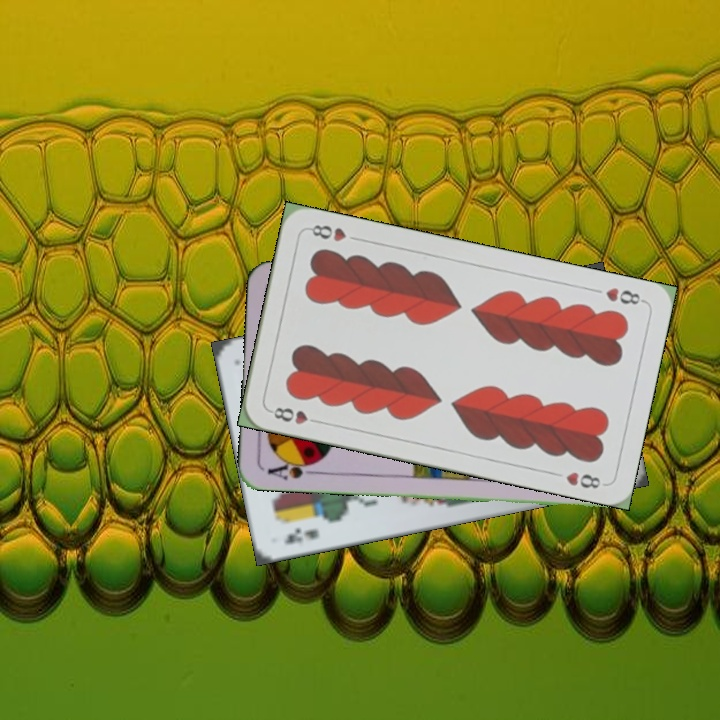EK: (280, 523, 321, 547)
H8: (266, 403, 324, 427), (601, 283, 647, 308)
SA: (263, 455, 322, 483)
